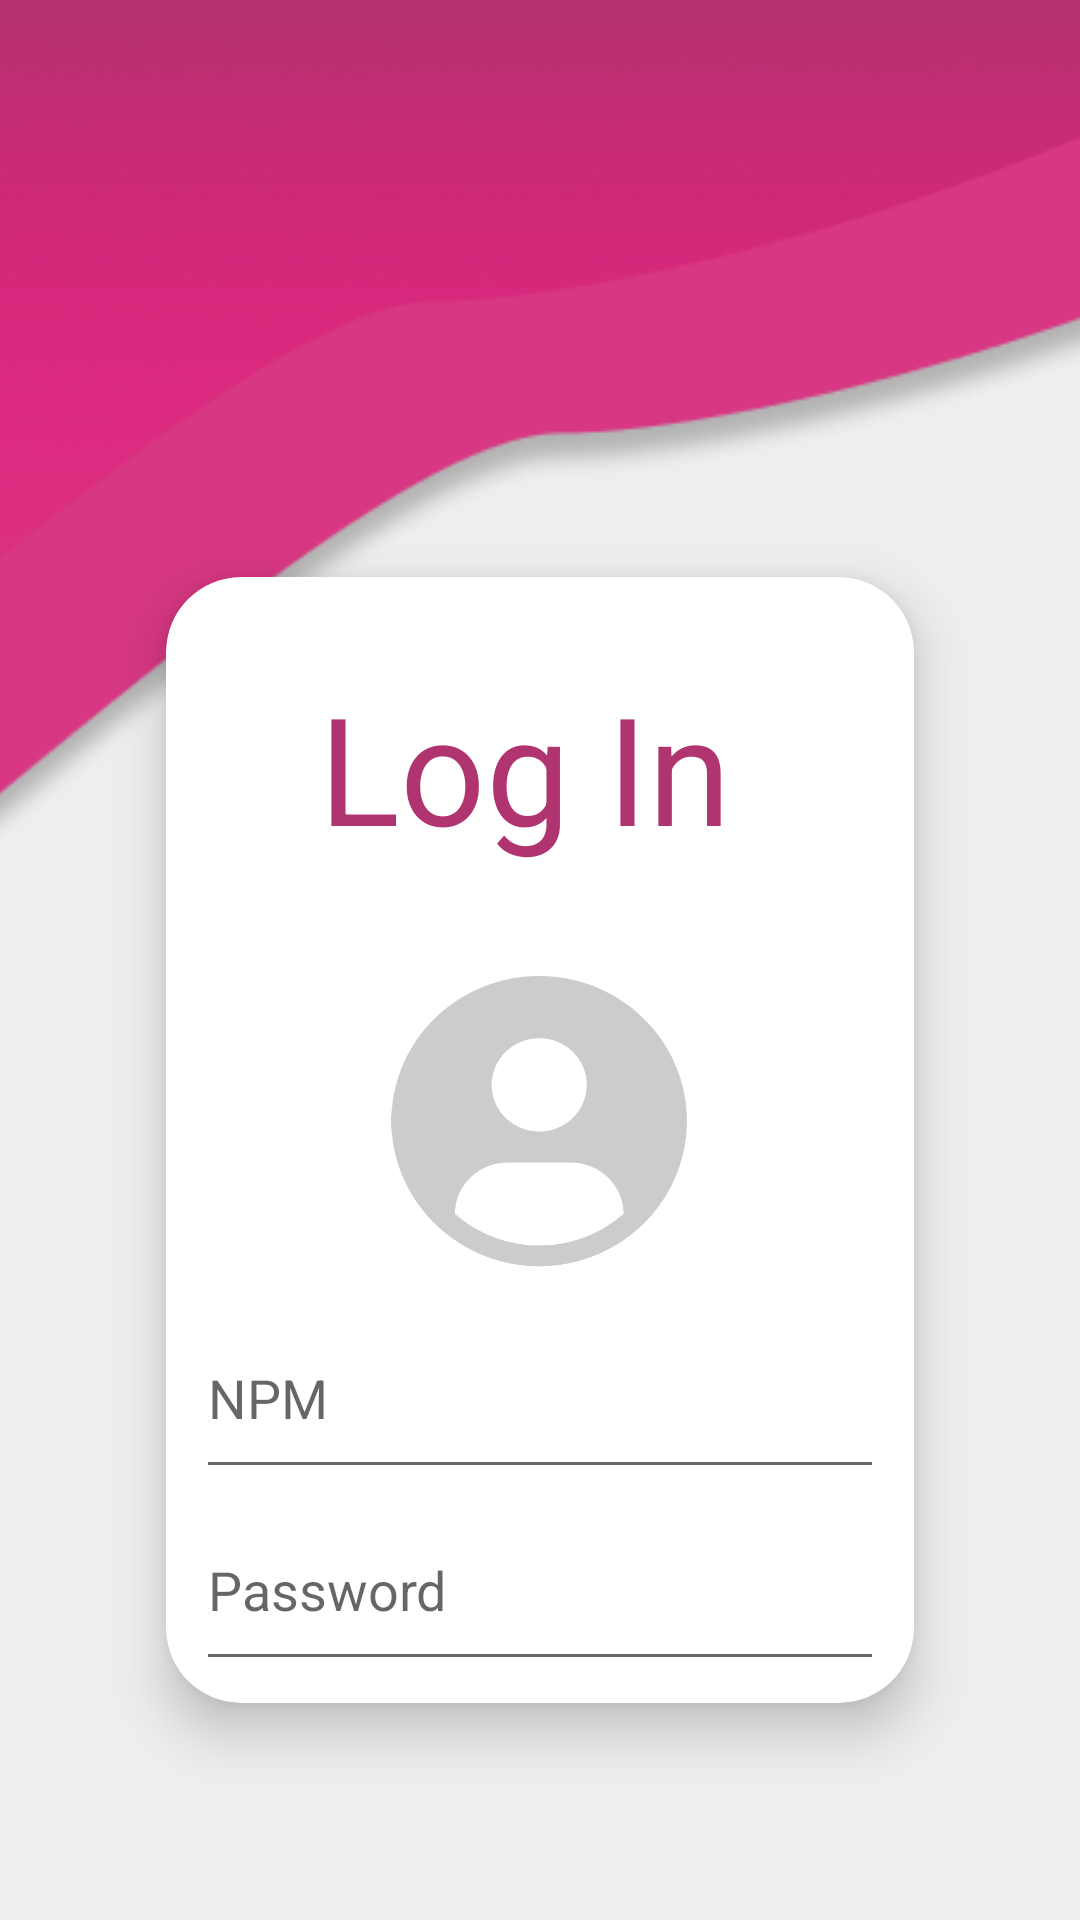

Screen size 1080px x 1920px. Icon name, then its box in pixels as (x1, y1, x2, y2):
user: (391, 976, 687, 1266)
